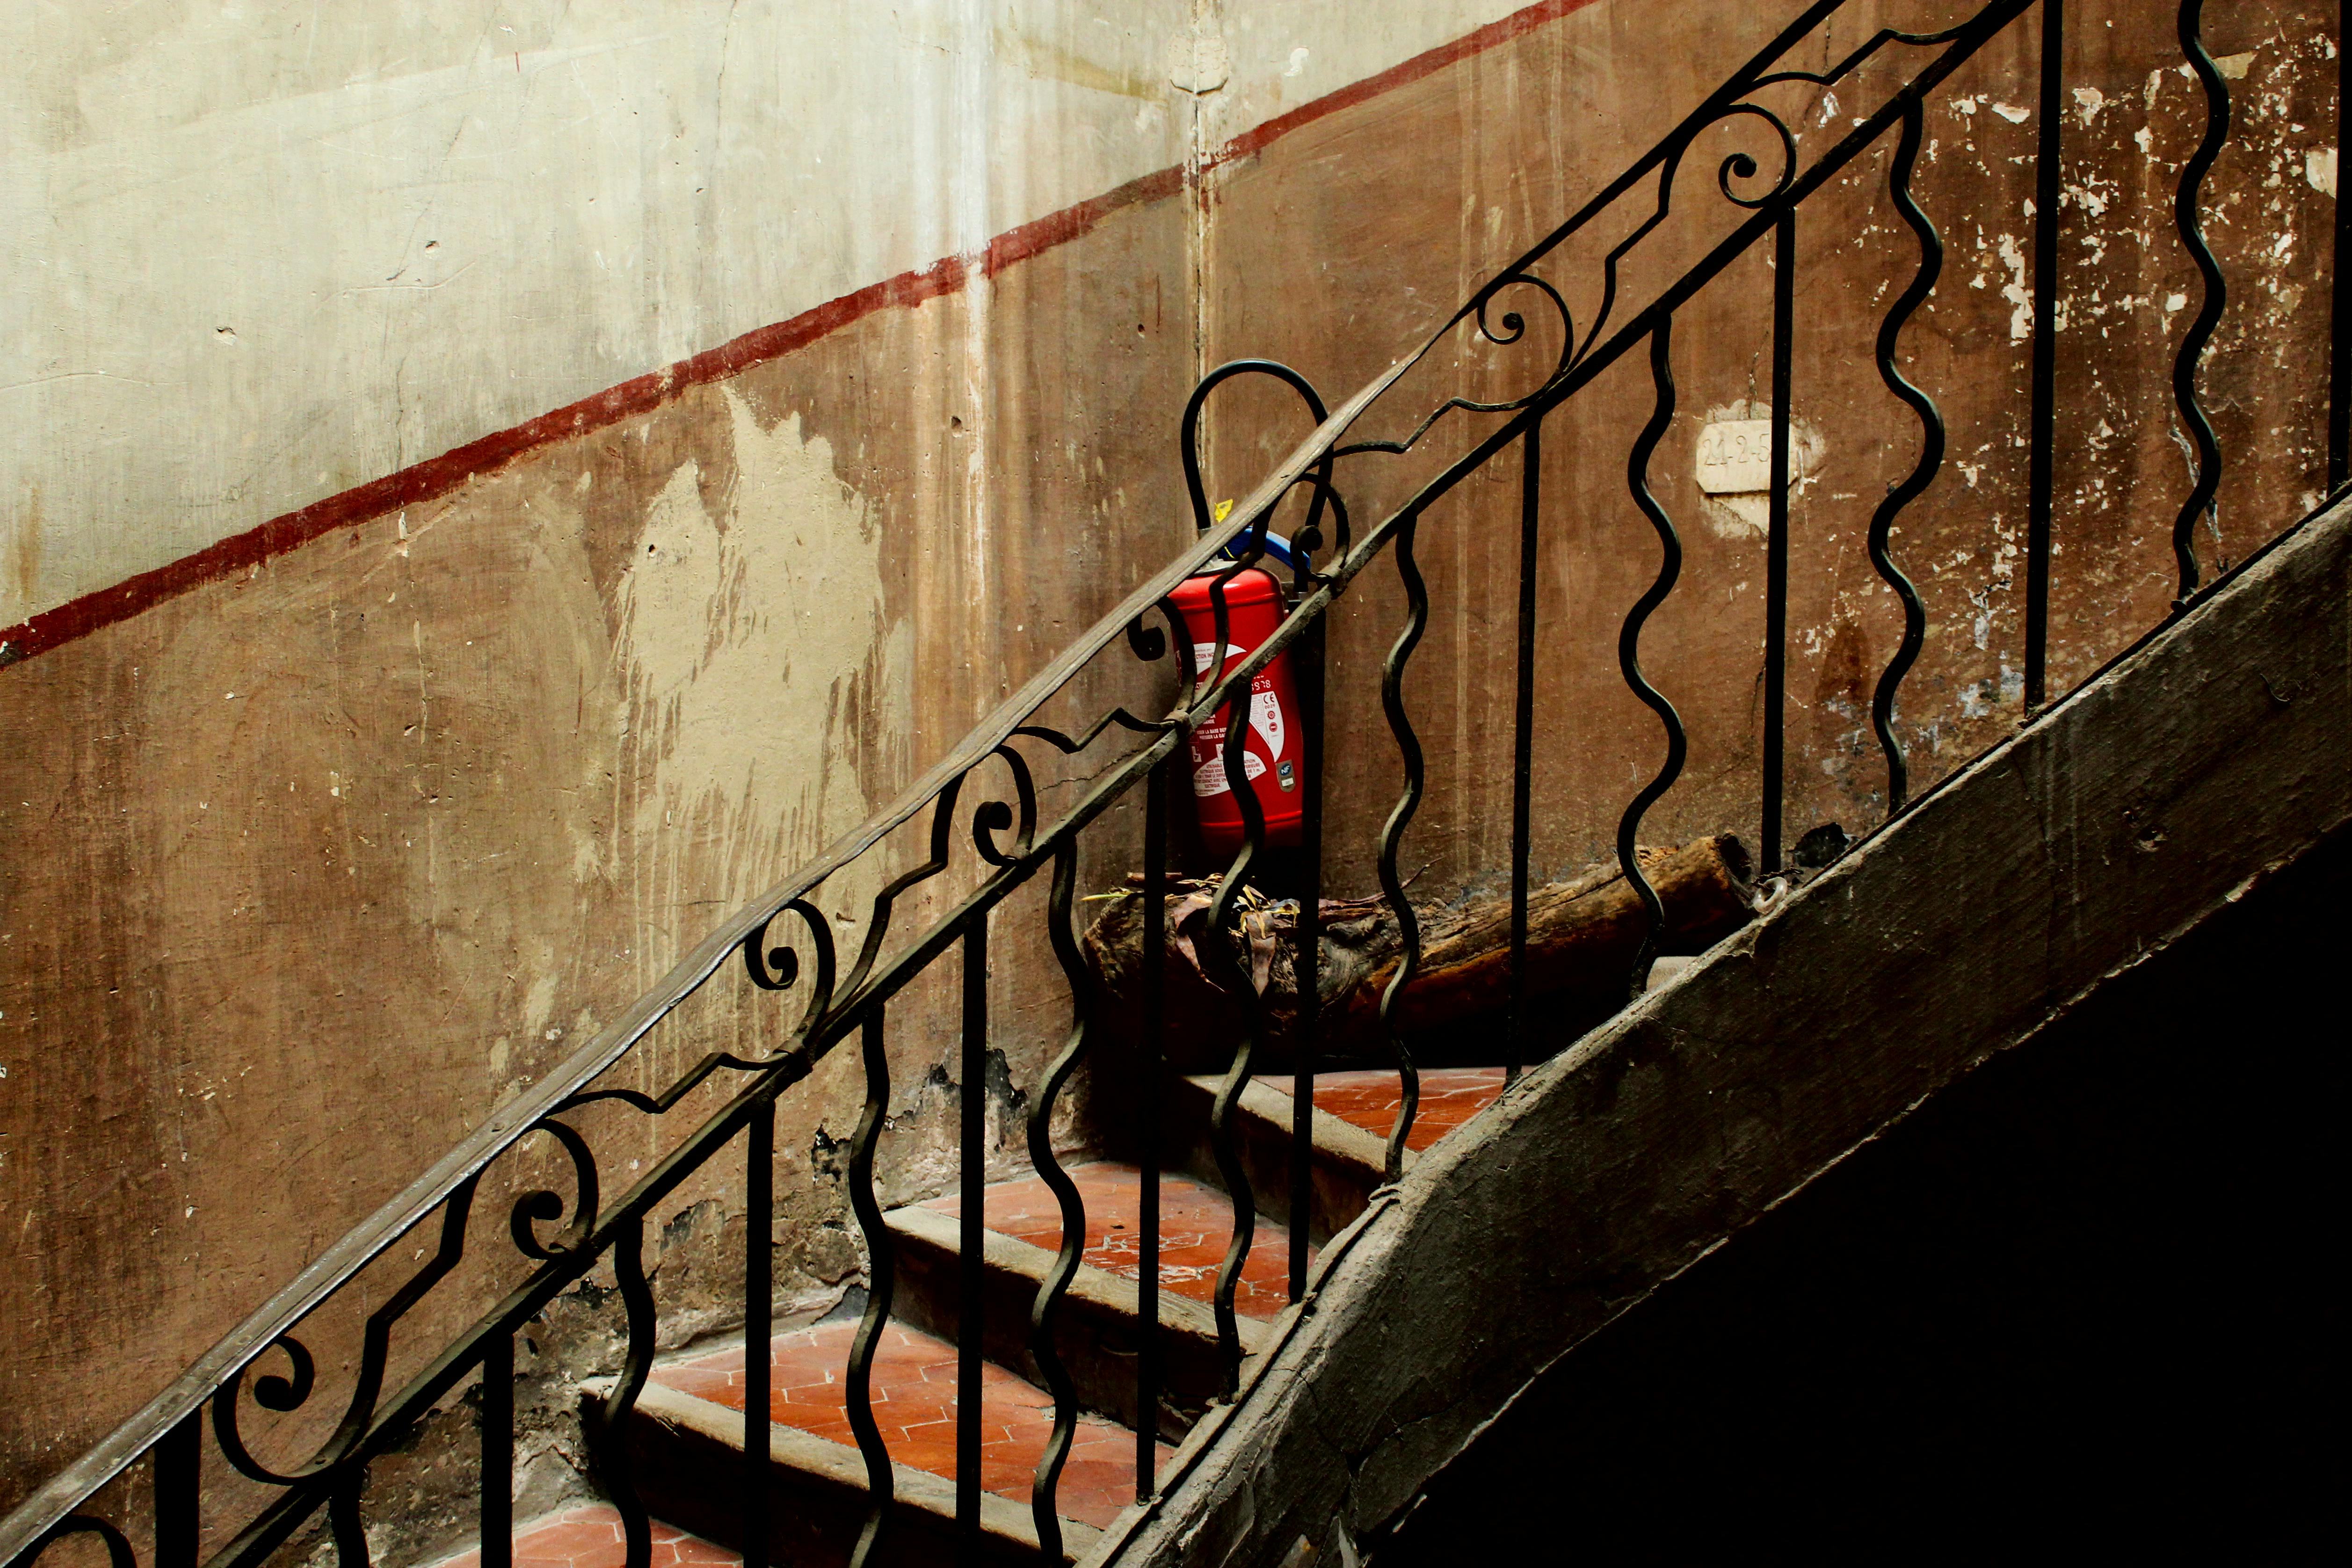extintor: (1153, 345, 1358, 859)
